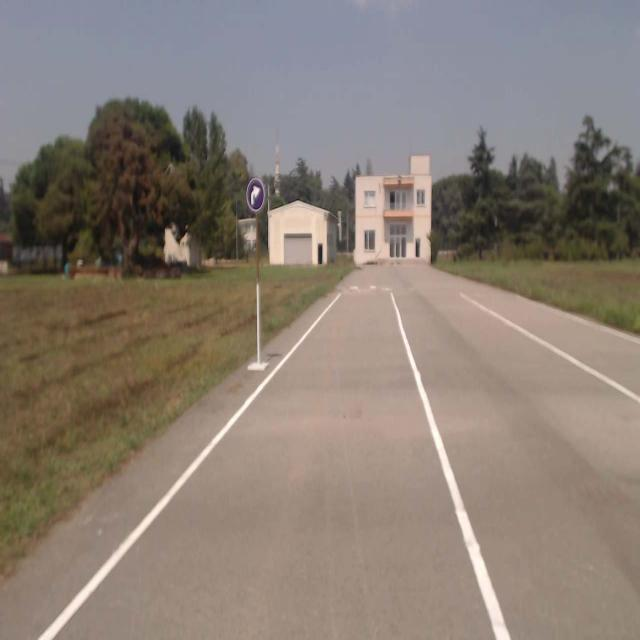sag: (246, 177, 264, 211)
